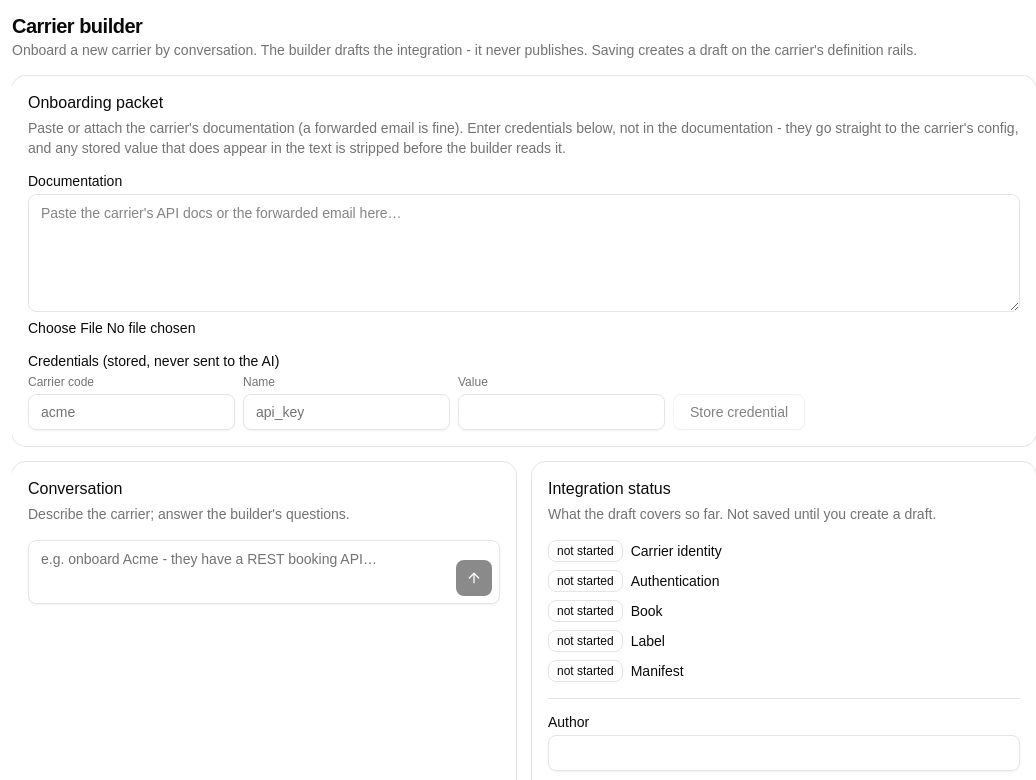
CarrierBuilderPage › surfaces a builder request failure as an error
This screenshot has width=1036, height=780.
Type "onboard acme" into the text box named "message the carrier builder".
click(264, 572); type("onboard acme")  # box [28,540,500,604]
Then press Enter
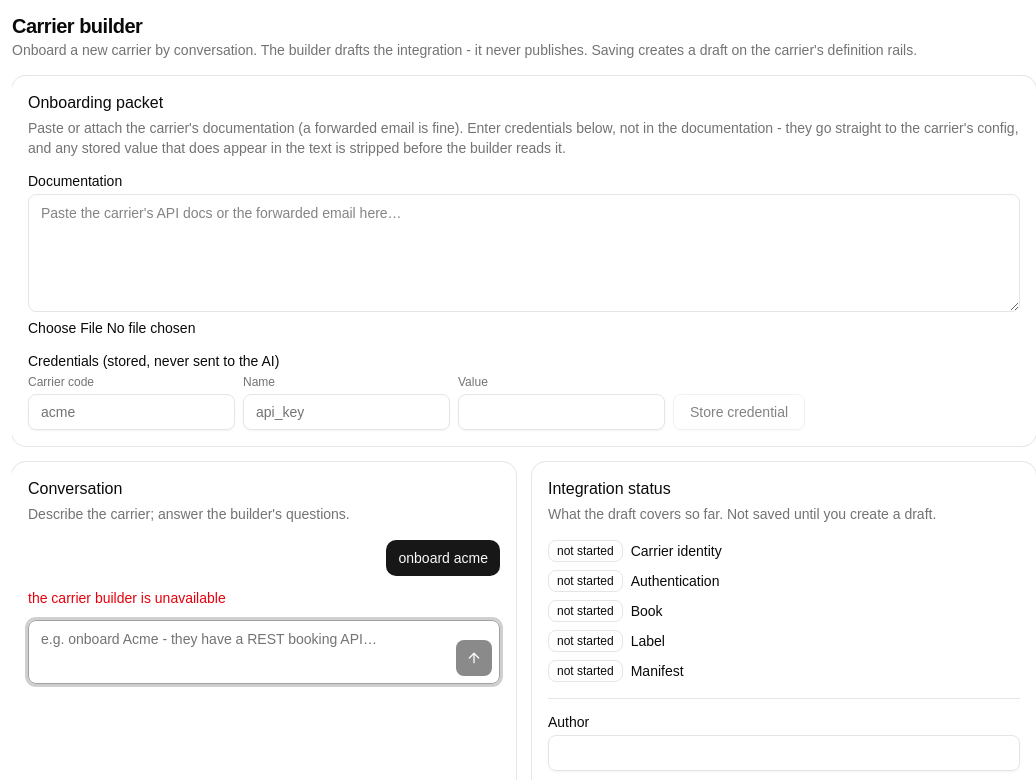
Check: the message shows "unavailable", box [28,590,226,606]
